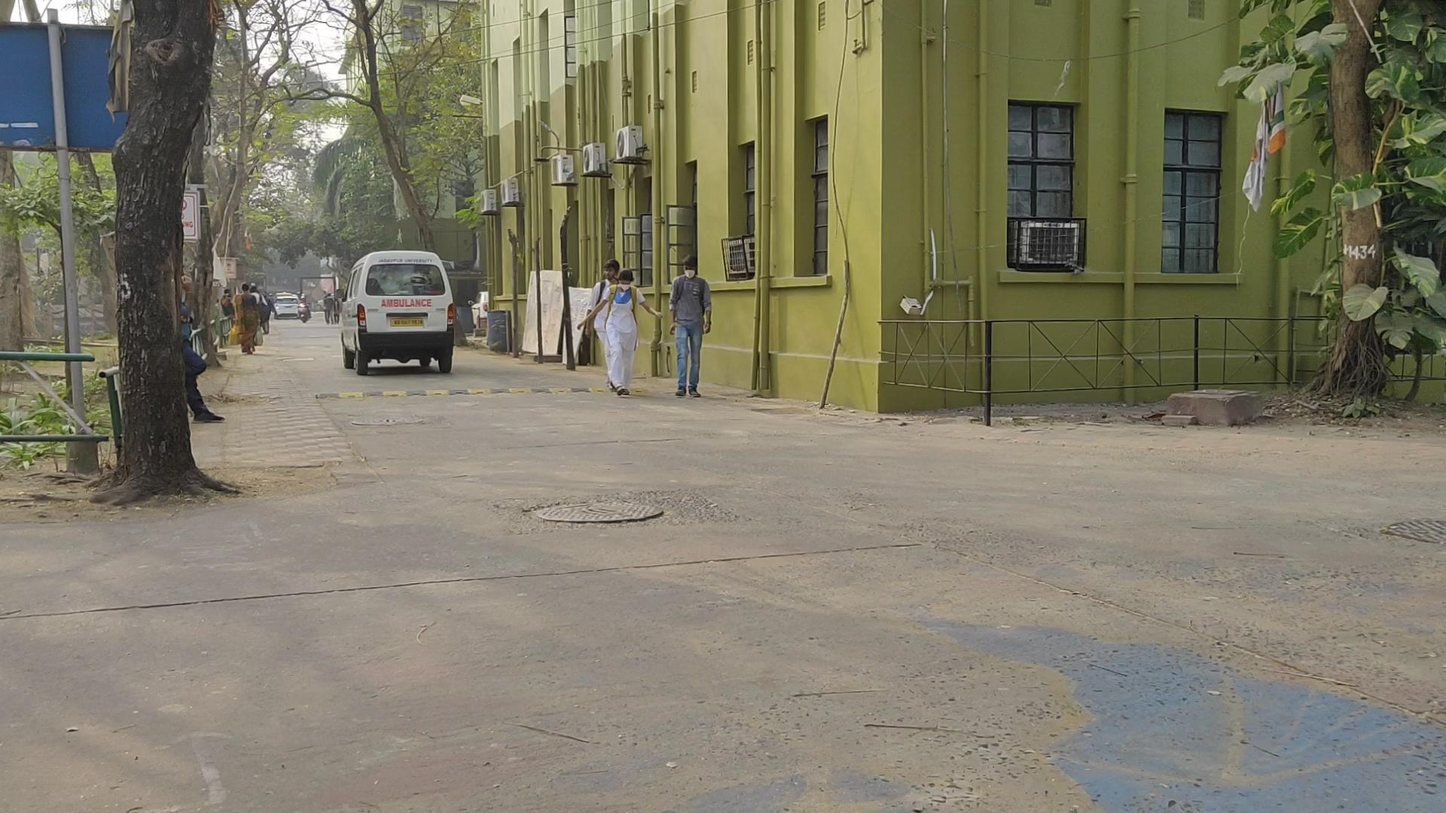bike: (298, 294, 312, 324)
car: (273, 295, 300, 320)
van: (340, 250, 456, 376)
